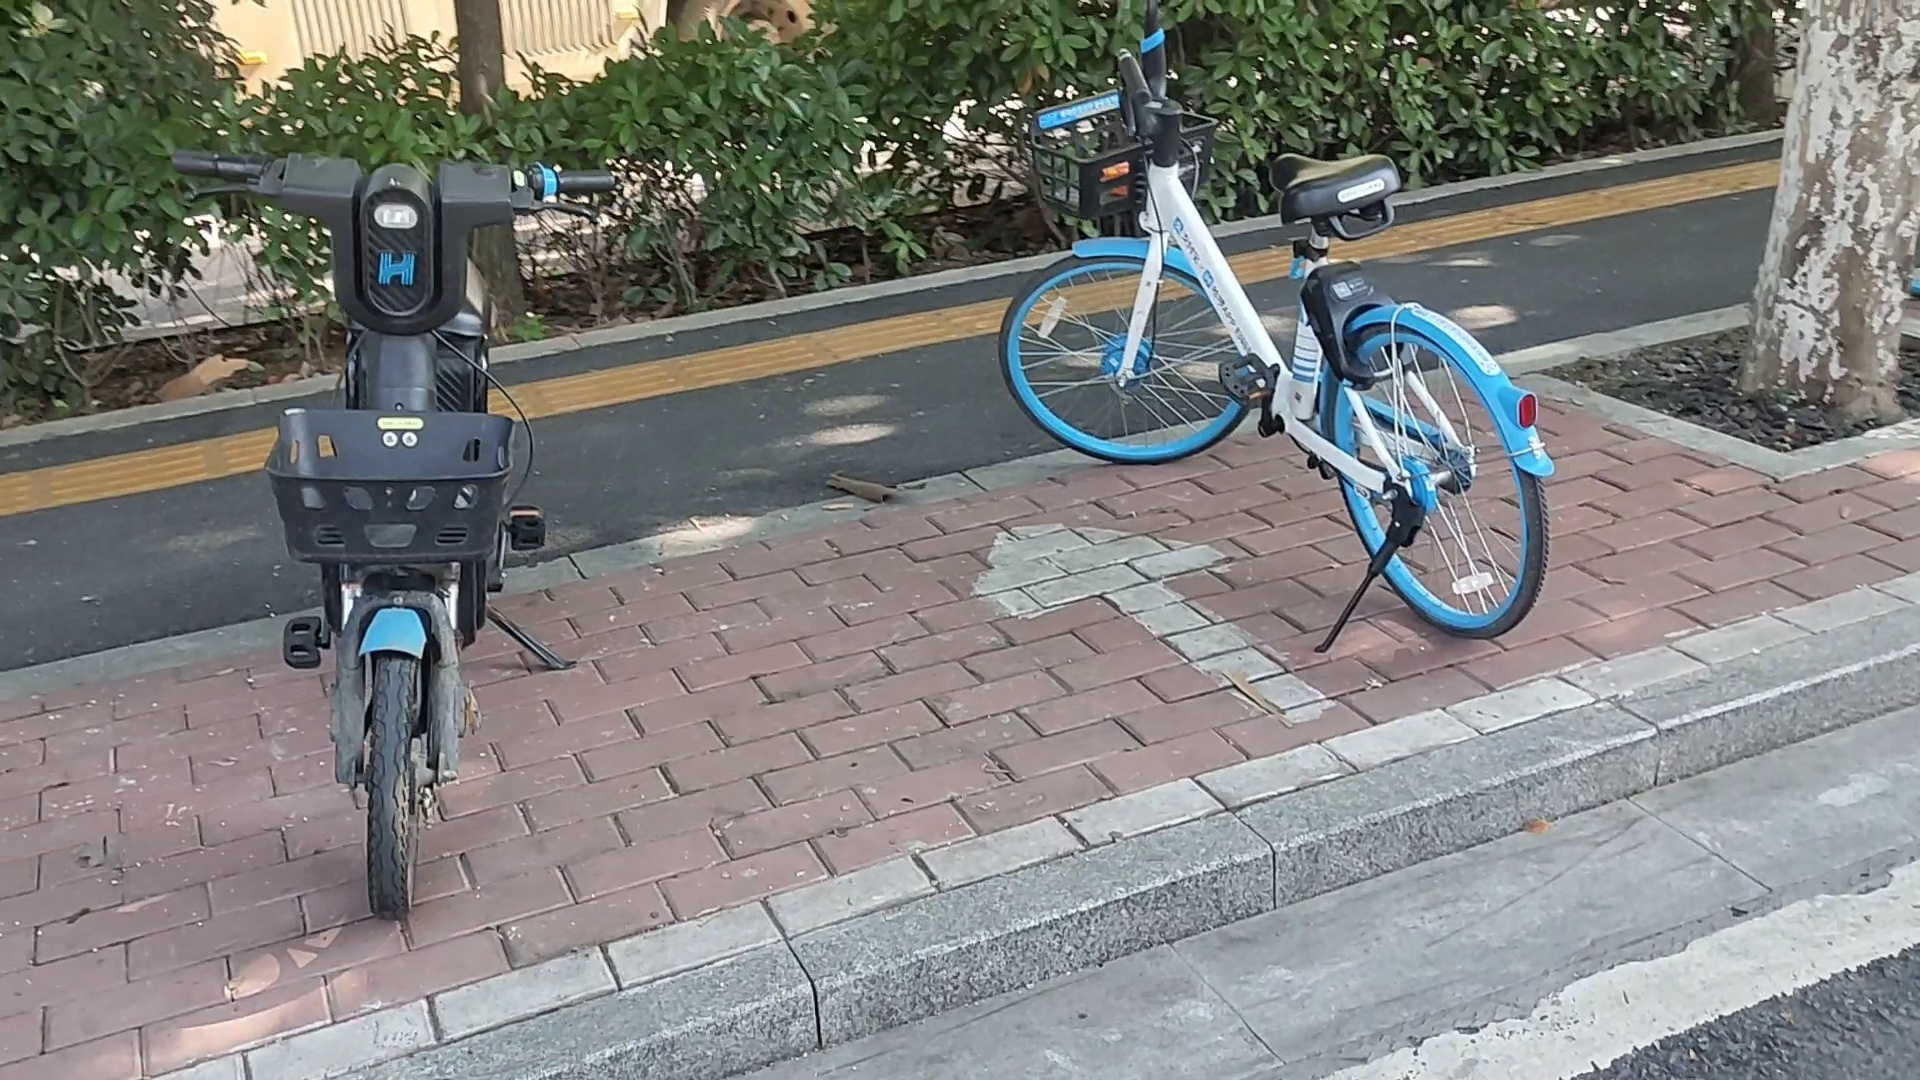non-vehicle: (992, 36, 1552, 659), (193, 105, 589, 953)
